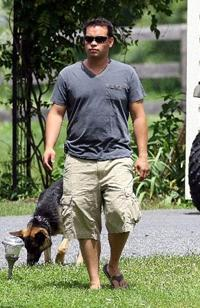person: (41, 19, 148, 294)
